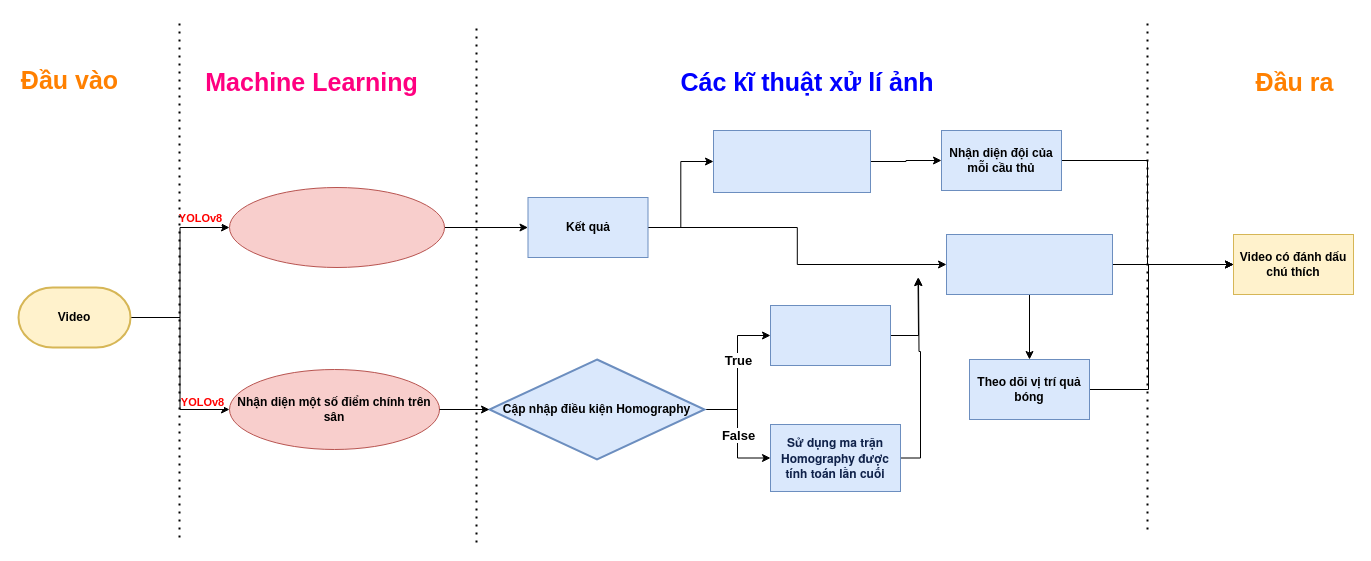
This 1371x561 diagram has some shape labels left out. The shapes that lost their labels are listed below. From the top down, each one's centre as x and y in pixels, then its label:
(791,161): Trích xuất bảng màu của cầu thủ được phát hiện
(336,227): Nhận diện cầu thủ, thủ môn, trọng tài và quả bóng
(1029,264): Chuyển đổi tọa độ cầu thủ cầu thủ và quả bóng sang bản đồ chiến thuật
(830,335): Tạo/Cập nhập ma trận homography
